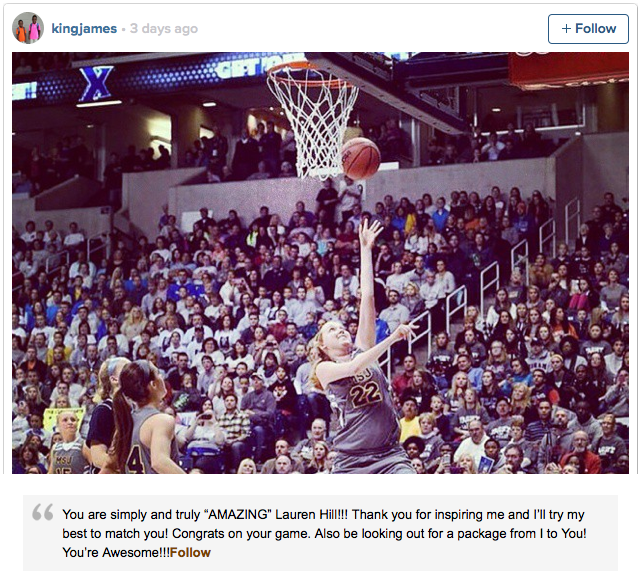ball: (339, 138, 383, 181)
basket: (266, 60, 361, 185)
player: (295, 218, 417, 473), (114, 362, 183, 474), (86, 358, 133, 475)
